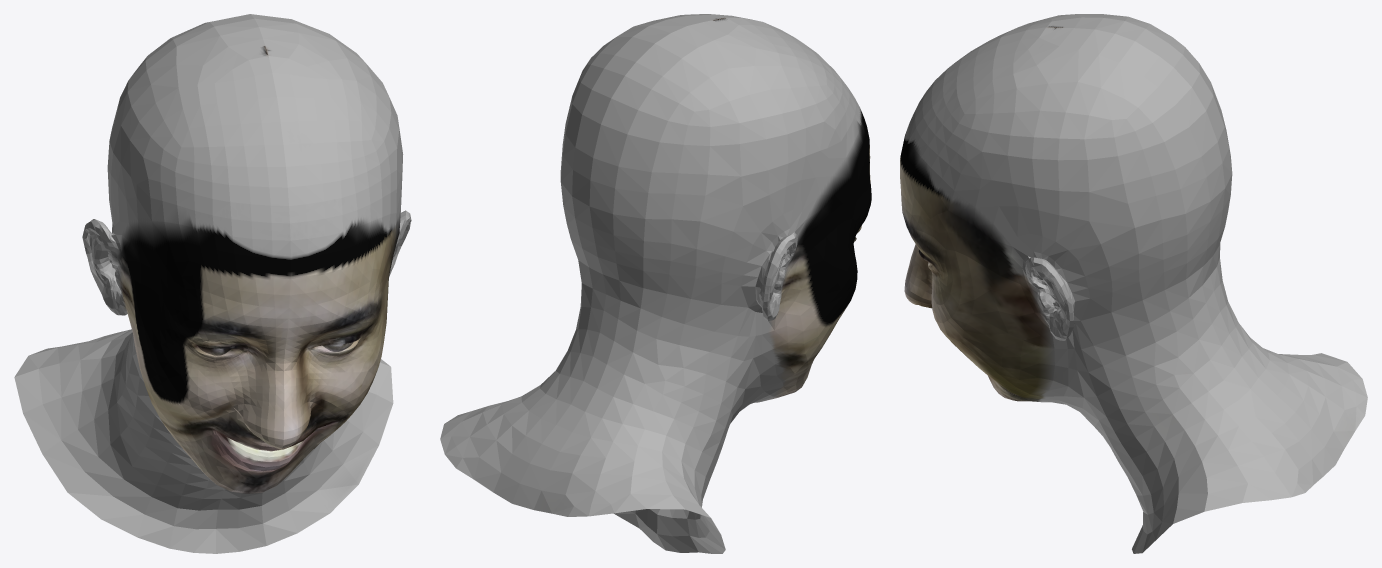
File: ezgif-frame-009.obj
3 renders of one model, left to right at view 1: azimuth 30°, elevation 25°; view 2: azimuth 150°, elevation 25°; view 3: azimuth 270°, elevation 25°, orthographic. The views are drawn at different scales.
Bounding box in the file's own units: 0.2054 × 0.3227 × 0.2707.
Materials: 1 (1 with a texture image).
